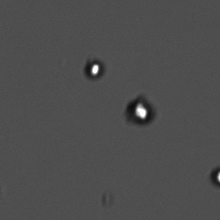Living Cell: (121, 93, 159, 126), (79, 54, 107, 85)
